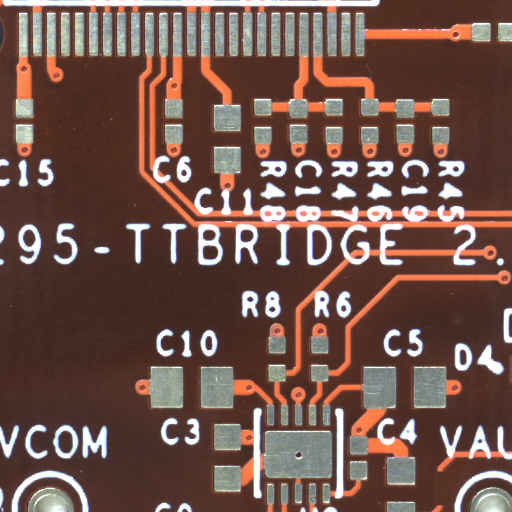Open_circuit: (439, 487, 454, 512)
